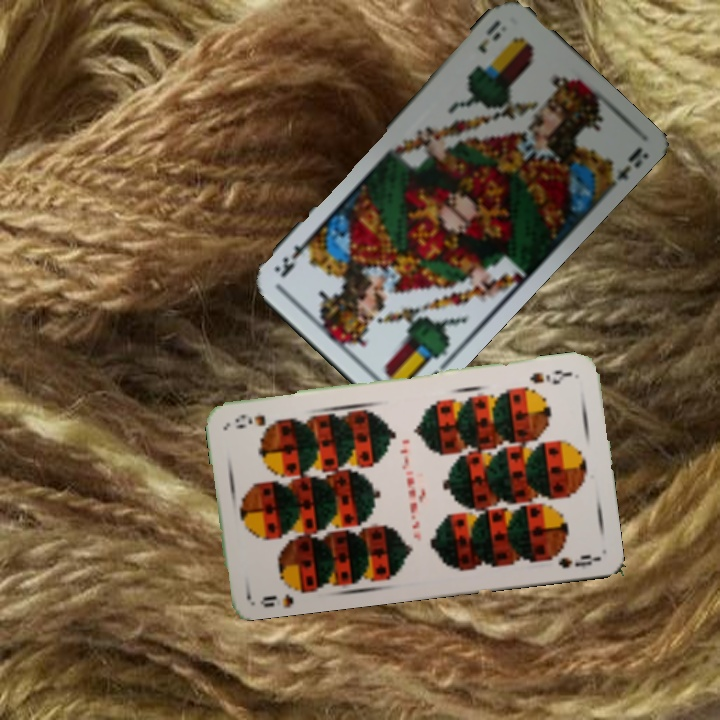EK: (474, 16, 504, 57)
S9: (256, 579, 310, 610), (525, 366, 575, 387)
